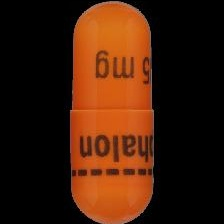63459-700: (0, 0, 224, 224)
